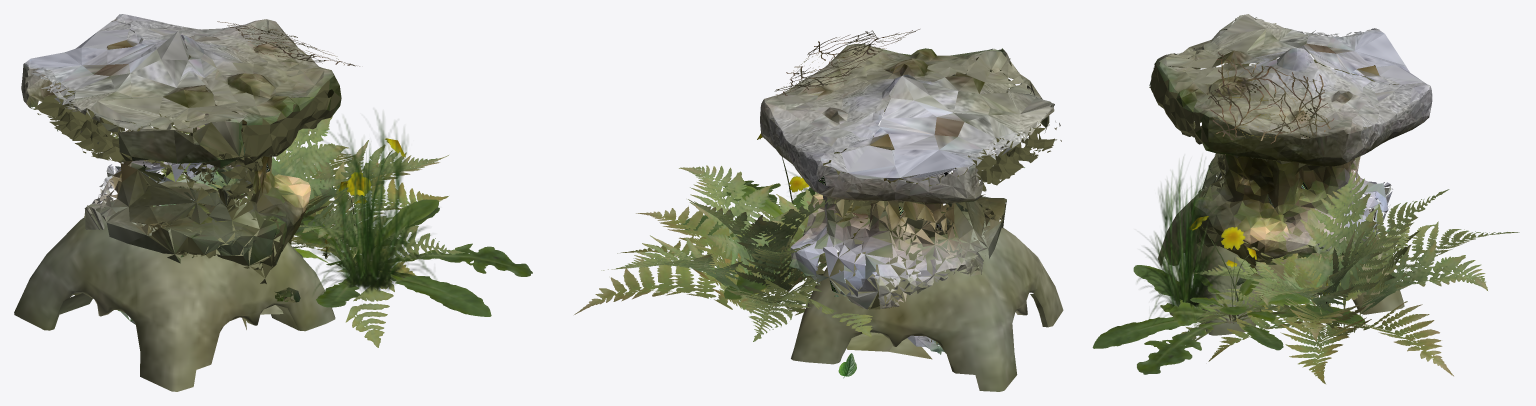
Rendered from asset.glb.
3 renders of one model, left to right at view 1: azimuth 30°, elevation 25°; view 2: azimuth 150°, elevation 25°; view 3: azimuth 270°, elevation 25°, orthographic. The views are drawn at different scales.
Visible parts, largest first — view 1: legs, top, top.001, top.003, Bush Wild Fern b1, Plane006_02 - Default_0, 0_1_23_383085165_0, Ivy Creeper Branches 2M 01, top.002; view 2: top, legs, Bush Wild Fern b1, top.003, top.001, top.002, 0_1_23_383085165_0, Ivy Creeper Branches 2M 01, legs.001; view 3: top, Bush Wild Fern b1, 0_1_23_383085165_0, top.003, Plane006_02 - Default_0, legs, Ivy Creeper Branches 2M 01, top.001, top.002.
Part boxes in pixels (<box>): legs: <box>14,181,335,391</box>; top: <box>21,14,341,302</box>; top.001: <box>30,67,295,324</box>; top.003: <box>24,21,244,129</box>; Bush Wild Fern b1: <box>111,116,465,347</box>; Plane006_02 - Default_0: <box>309,111,436,294</box>; 0_1_23_383085165_0: <box>294,138,532,316</box>; Ivy Creeper Branches 2M 01: <box>217,21,359,66</box>; top.002: <box>92,117,210,252</box>; top: <box>760,44,1061,353</box>; legs: <box>791,207,1063,391</box>; Bush Wild Fern b1: <box>574,165,872,341</box>; top.003: <box>824,49,1053,190</box>; top.001: <box>872,48,1054,354</box>; top.002: <box>806,183,989,309</box>; 0_1_23_383085165_0: <box>681,133,817,299</box>; Ivy Creeper Branches 2M 01: <box>774,29,919,96</box>; legs.001: <box>846,332,932,359</box>; top: <box>1150,28,1432,287</box>; Bush Wild Fern b1: <box>1179,171,1519,383</box>; 0_1_23_383085165_0: <box>1092,216,1364,374</box>; top.003: <box>1159,14,1426,85</box>; Plane006_02 - Default_0: <box>1137,158,1231,323</box>; legs: <box>1157,178,1404,335</box>; Ivy Creeper Branches 2M 01: <box>1207,52,1334,143</box>; top.001: <box>1149,16,1390,271</box>; top.002: <box>1353,156,1392,236</box>.
Size of the model in its own units: 4.06 by 2.73 by 3.96.
Materials: 19 (19 with a texture image).
